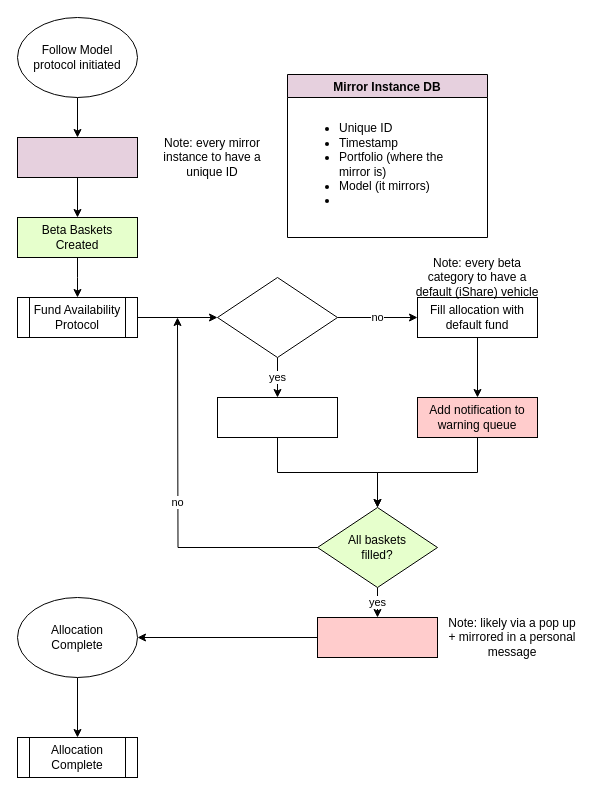
The diagram is 595 pixels wide and 795 high, and some of its shapes have lost their labels. The centre of each missing label's shape, as x and y in pixels:
"Display warning summary" goes at point (377, 637).
"Fill allocation" goes at point (277, 417).
"Fund N available?" goes at point (277, 317).
"Mirror Instance Created" goes at point (77, 157).
